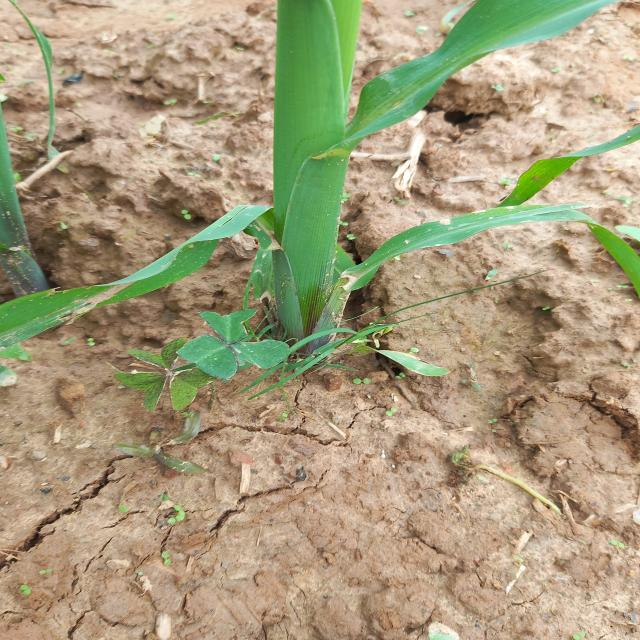maize: (0, 0, 640, 358)
weed: (168, 298, 303, 397), (110, 338, 228, 408)
